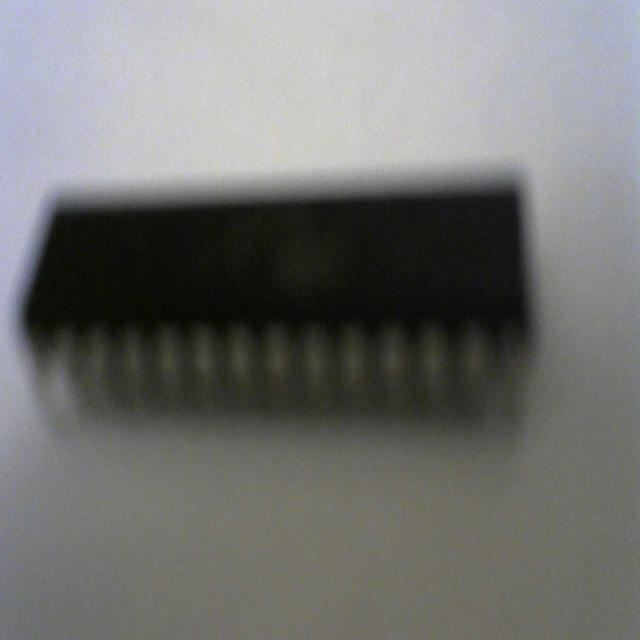atmega: (21, 172, 539, 436)
